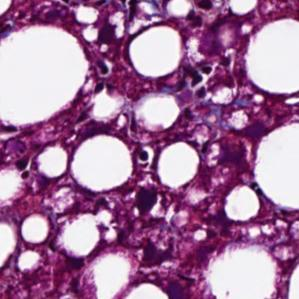inflammation: (184, 58, 239, 101), (128, 182, 180, 226)
